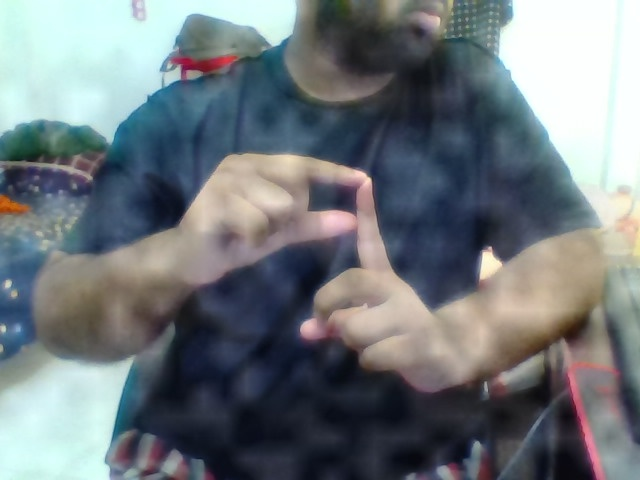P: (182, 131, 470, 407)
